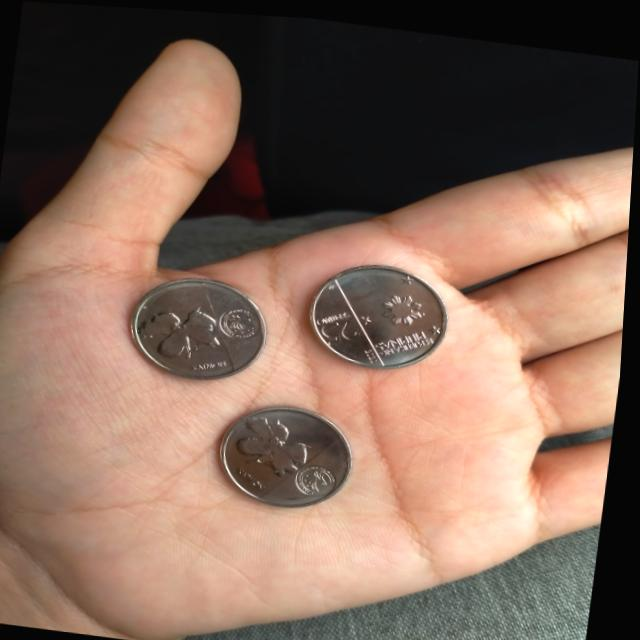25Cent_New_Back: (137, 296, 230, 362), (236, 402, 317, 471)
25Cent_New_Front: (312, 288, 377, 347)
